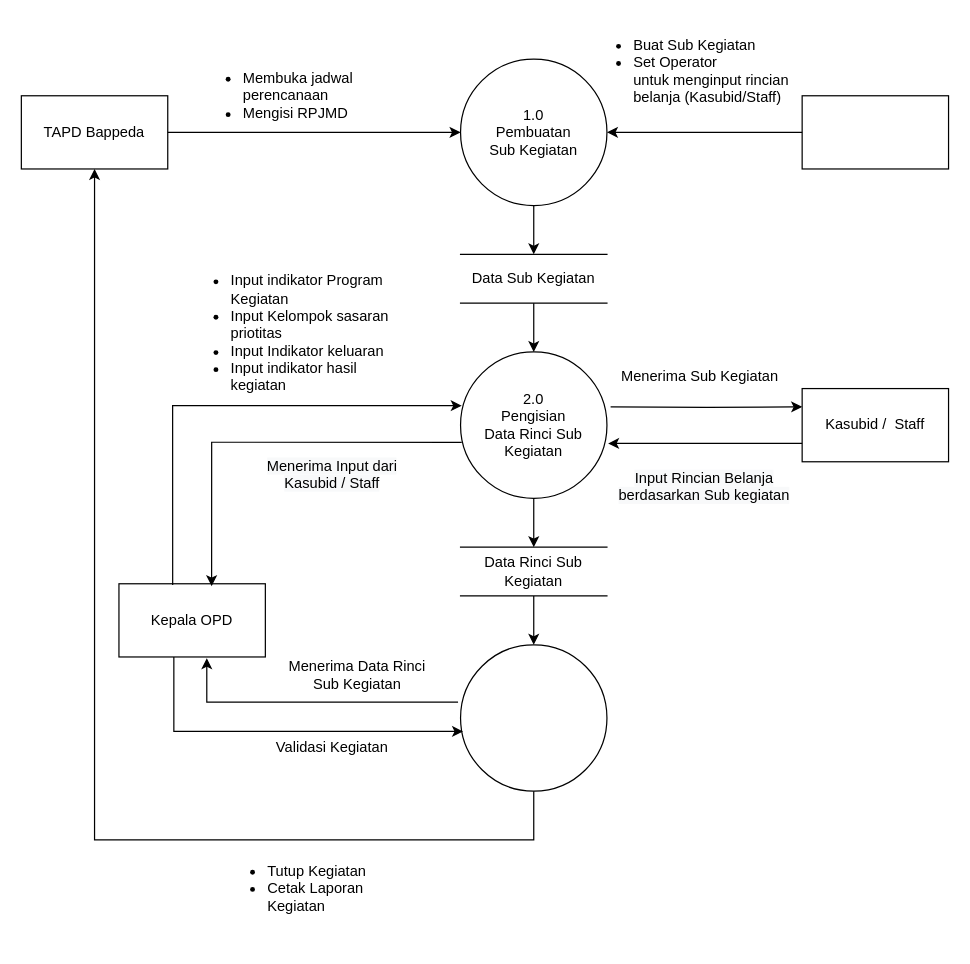
The diagram is 970 pixels wide and 964 high, and some of its shapes have lost their labels. The shapes that lost their labels are listed below. From the top down, each one's centre as x and y in pixels, then its label:
At pixel 875 132: "Sekretaris / Kepala Bidang".
At pixel 533 717: "3.0 Laporan Kegiatan".
